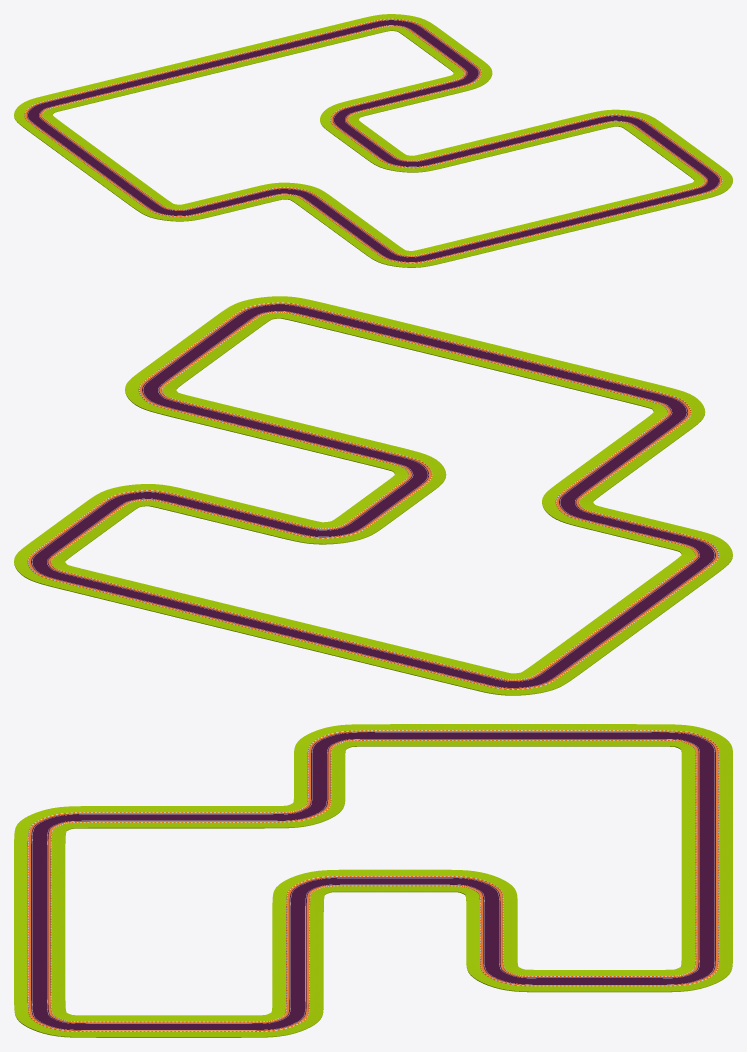
Rendered from track from image.fbx.
3 renders of one model, top to bottom at view 1: azimuth 30°, elevation 25°; view 2: azimuth 150°, elevation 25°; view 3: azimuth 270°, elevation 25°, orthographic. The views are drawn at different scales.
Visible parts, largest first — view 1: grass.001, ground chunck.001, orange area.001, turtouar.001; view 2: grass.001, ground chunck.001, orange area.001, turtouar.001; view 3: grass.001, ground chunck.001, orange area.001, turtouar.001.
Boxes of the visible parts, left/top/right/bottom form: grass.001: left=14, top=14, right=732, bottom=267; ground chunck.001: left=27, top=20, right=719, bottom=262; orange area.001: left=25, top=19, right=721, bottom=262; turtouar.001: left=24, top=18, right=722, bottom=263; grass.001: left=14, top=296, right=732, bottom=695; ground chunck.001: left=31, top=304, right=715, bottom=688; orange area.001: left=29, top=303, right=717, bottom=688; turtouar.001: left=27, top=302, right=719, bottom=689; grass.001: left=14, top=724, right=732, bottom=1037; ground chunck.001: left=31, top=732, right=715, bottom=1030; orange area.001: left=29, top=731, right=717, bottom=1031; turtouar.001: left=27, top=730, right=719, bottom=1031.
Bounding box in the file's own units: 344 × 0.3791 × 334.
1 material, 1 textured.
